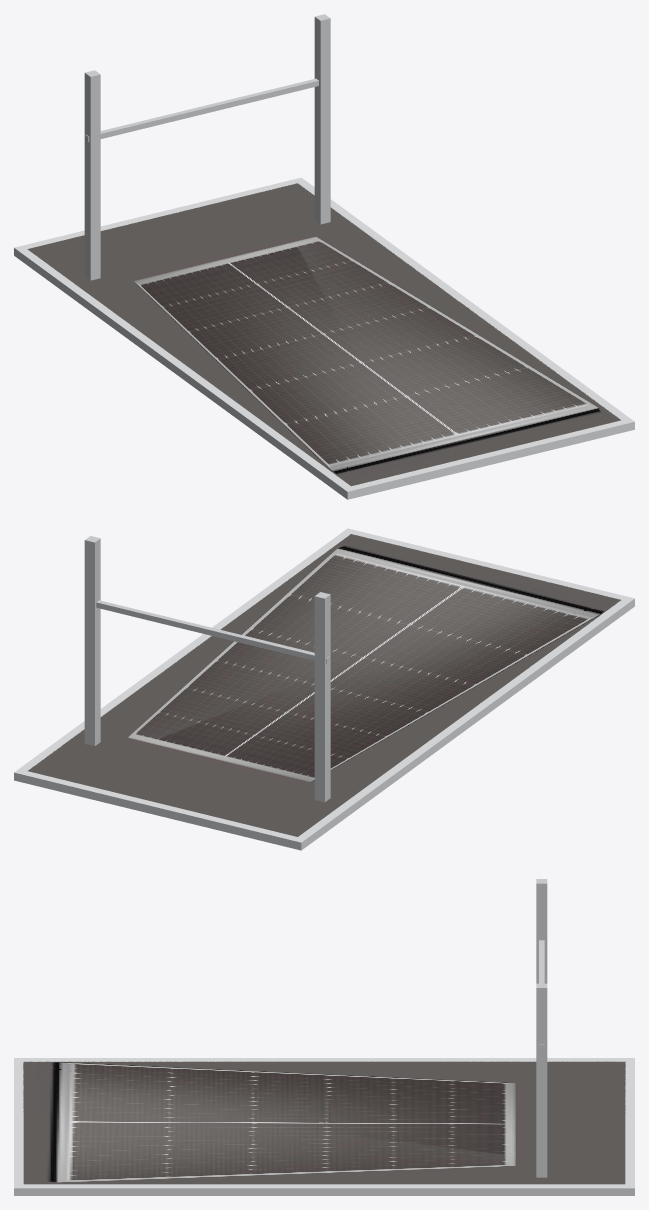
Rendered from SOL-ADA-ASB-M10-144-575.glb.
The picture shows the model from 3 angles, top to bottom: view 1: azimuth 30°, elevation 25°; view 2: azimuth 150°, elevation 25°; view 3: azimuth 270°, elevation 25°; orthographic projection. The views are drawn at different scales.
Parts seen in each view (by area): view 1: SOL-ADA-ASB-M10-144-575; view 2: SOL-ADA-ASB-M10-144-575; view 3: SOL-ADA-ASB-M10-144-575.
Part boxes in pixels (box(x1,y1,x2,y2)): SOL-ADA-ASB-M10-144-575: box(14, 14, 634, 499); SOL-ADA-ASB-M10-144-575: box(14, 528, 634, 850); SOL-ADA-ASB-M10-144-575: box(14, 879, 634, 1195).
Size of the model in its own units: 1.13 by 0.7973 by 2.28.
5 materials, 1 textured.
